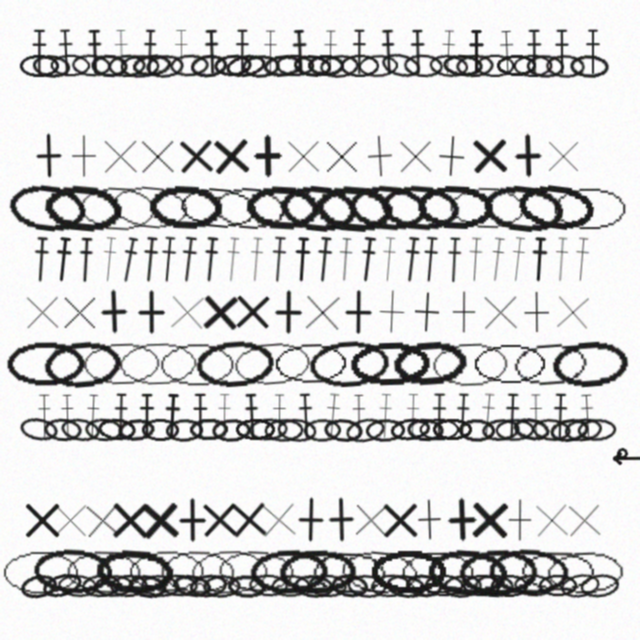chain: (515, 180, 598, 235), (481, 181, 565, 235), (6, 180, 88, 235), (108, 181, 192, 234), (337, 545, 421, 598), (278, 181, 360, 235), (176, 182, 259, 234), (379, 182, 462, 234), (231, 338, 314, 390), (42, 181, 123, 234), (42, 338, 124, 390), (308, 338, 391, 389), (313, 182, 394, 234), (347, 182, 428, 234), (194, 338, 275, 389), (509, 338, 590, 389), (550, 338, 631, 389), (426, 547, 508, 597), (210, 182, 290, 233), (391, 338, 470, 389), (488, 547, 570, 596), (77, 183, 157, 233), (94, 547, 174, 597), (32, 547, 113, 596), (216, 547, 297, 596), (244, 183, 322, 233), (447, 184, 528, 232), (117, 340, 198, 388), (349, 340, 430, 388), (458, 548, 539, 596), (544, 548, 625, 596), (416, 183, 495, 232), (81, 340, 161, 388), (278, 548, 358, 596), (147, 183, 225, 232), (430, 340, 509, 388), (249, 548, 328, 596), (309, 548, 388, 596), (64, 548, 144, 595), (189, 548, 269, 595), (6, 341, 86, 387), (1, 549, 81, 595), (272, 340, 350, 387), (127, 548, 205, 595), (158, 548, 236, 595), (518, 548, 596, 595), (551, 185, 629, 231), (471, 341, 549, 387), (370, 549, 448, 595), (399, 549, 477, 595), (158, 341, 235, 387), (40, 569, 84, 602), (379, 50, 423, 81), (224, 51, 267, 81), (344, 415, 387, 445), (18, 571, 60, 601), (18, 415, 60, 444), (559, 571, 601, 600), (59, 416, 102, 444), (384, 572, 427, 600), (511, 415, 552, 444), (548, 416, 590, 444), (126, 572, 168, 600), (171, 572, 212, 600), (389, 416, 431, 443), (131, 52, 172, 79), (188, 572, 229, 599), (579, 572, 620, 599), (276, 417, 318, 443), (189, 52, 229, 79), (563, 416, 603, 443), (330, 572, 370, 599), (404, 572, 444, 599), (31, 53, 72, 79), (262, 53, 303, 79), (292, 53, 333, 79), (428, 53, 469, 79), (57, 573, 98, 599), (293, 573, 334, 599), (346, 573, 387, 599), (442, 573, 483, 599), (319, 53, 359, 79), (323, 417, 363, 443), (481, 417, 521, 443), (531, 417, 571, 443), (140, 573, 180, 599), (169, 53, 210, 78), (403, 53, 444, 78), (442, 53, 483, 78), (158, 573, 199, 598), (248, 573, 289, 598), (307, 573, 348, 598), (370, 573, 411, 598), (513, 573, 554, 598), (145, 53, 184, 79), (117, 417, 156, 443), (71, 53, 111, 78), (213, 53, 253, 78), (43, 417, 83, 442), (97, 417, 137, 442), (248, 417, 288, 442), (81, 573, 121, 598), (474, 573, 514, 598), (90, 53, 129, 78), (107, 53, 146, 78), (455, 53, 494, 78), (84, 417, 123, 442), (406, 417, 445, 442), (109, 573, 148, 598), (120, 54, 160, 78), (241, 54, 281, 78), (358, 54, 398, 78), (545, 54, 585, 78), (569, 54, 609, 78), (211, 418, 251, 442), (264, 418, 304, 442), (365, 418, 405, 442), (577, 418, 617, 442), (94, 574, 134, 598), (165, 418, 204, 442), (495, 418, 534, 442), (202, 574, 241, 598), (227, 574, 266, 598), (271, 574, 310, 598), (19, 54, 59, 77), (50, 54, 90, 77), (275, 54, 315, 77), (475, 54, 515, 77), (496, 54, 536, 77), (513, 54, 553, 77), (235, 418, 275, 441), (419, 418, 459, 441), (432, 418, 472, 441), (424, 574, 464, 597), (538, 574, 578, 597), (526, 54, 564, 78), (303, 418, 341, 442), (458, 418, 496, 442), (340, 54, 379, 77), (141, 418, 180, 441), (189, 418, 228, 441), (462, 574, 501, 597), (490, 574, 529, 597), (307, 54, 345, 77)
half_double: (117, 236, 142, 284), (177, 236, 200, 283), (356, 236, 379, 283), (400, 236, 423, 283), (52, 236, 74, 283), (98, 236, 120, 283), (139, 236, 161, 283), (313, 236, 335, 283), (486, 236, 508, 283), (507, 236, 529, 283), (158, 236, 179, 283), (200, 236, 221, 283), (222, 236, 243, 283), (268, 236, 289, 283), (335, 236, 356, 283), (378, 236, 399, 283), (420, 236, 441, 283), (551, 236, 572, 283), (322, 392, 343, 439), (477, 392, 498, 439), (31, 236, 51, 283), (246, 236, 266, 283), (292, 236, 312, 283), (465, 236, 485, 283), (529, 236, 549, 283), (572, 236, 592, 283), (56, 29, 76, 75), (290, 29, 310, 75), (438, 29, 458, 75), (444, 237, 464, 283), (162, 393, 182, 439), (375, 393, 395, 439), (577, 393, 597, 439), (85, 29, 104, 75), (112, 29, 131, 75), (202, 29, 221, 75), (408, 29, 427, 75), (497, 29, 516, 75), (76, 237, 95, 283), (242, 393, 261, 439), (296, 393, 315, 439), (403, 393, 422, 439), (453, 393, 472, 439), (30, 29, 48, 75), (141, 29, 159, 75), (172, 29, 190, 75), (233, 29, 251, 75), (350, 29, 368, 75), (379, 29, 397, 75), (467, 29, 485, 75), (525, 29, 543, 75), (553, 29, 571, 75), (584, 29, 602, 75), (35, 393, 53, 439), (84, 393, 102, 439), (112, 393, 130, 439), (138, 393, 156, 439), (191, 393, 209, 439), (215, 393, 233, 439), (270, 393, 288, 439), (350, 393, 368, 439), (430, 393, 448, 439), (503, 393, 521, 439), (527, 393, 545, 439), (551, 393, 569, 439), (262, 29, 279, 75), (322, 29, 339, 75), (59, 393, 76, 439)
noise: (610, 452, 640, 465), (616, 447, 628, 459)
single: (254, 495, 303, 544), (225, 495, 273, 544), (172, 132, 220, 180), (207, 132, 255, 180), (356, 132, 404, 180), (427, 132, 475, 180), (163, 288, 211, 336), (196, 288, 244, 336), (298, 288, 346, 336), (403, 288, 451, 336), (78, 496, 126, 544), (136, 496, 184, 544), (560, 496, 608, 544), (549, 288, 596, 336), (528, 496, 575, 544), (25, 132, 72, 179), (466, 132, 513, 179), (504, 132, 551, 179), (90, 288, 137, 335), (229, 288, 276, 335), (368, 288, 415, 335), (196, 496, 243, 543), (287, 496, 334, 543), (318, 496, 365, 543), (347, 496, 394, 543), (406, 496, 453, 543), (438, 496, 485, 543), (466, 496, 513, 543), (61, 133, 107, 179), (97, 133, 143, 179), (134, 133, 180, 179), (245, 133, 291, 179), (280, 133, 326, 179), (318, 133, 364, 179), (392, 133, 438, 179), (540, 133, 586, 179), (19, 289, 65, 335), (56, 289, 102, 335), (128, 289, 174, 335), (265, 289, 311, 335), (335, 289, 381, 335), (441, 289, 487, 335), (477, 289, 523, 335), (513, 289, 559, 335), (19, 497, 65, 543), (47, 497, 93, 543), (107, 497, 153, 543), (169, 497, 215, 543), (377, 497, 423, 543), (497, 497, 543, 543)
